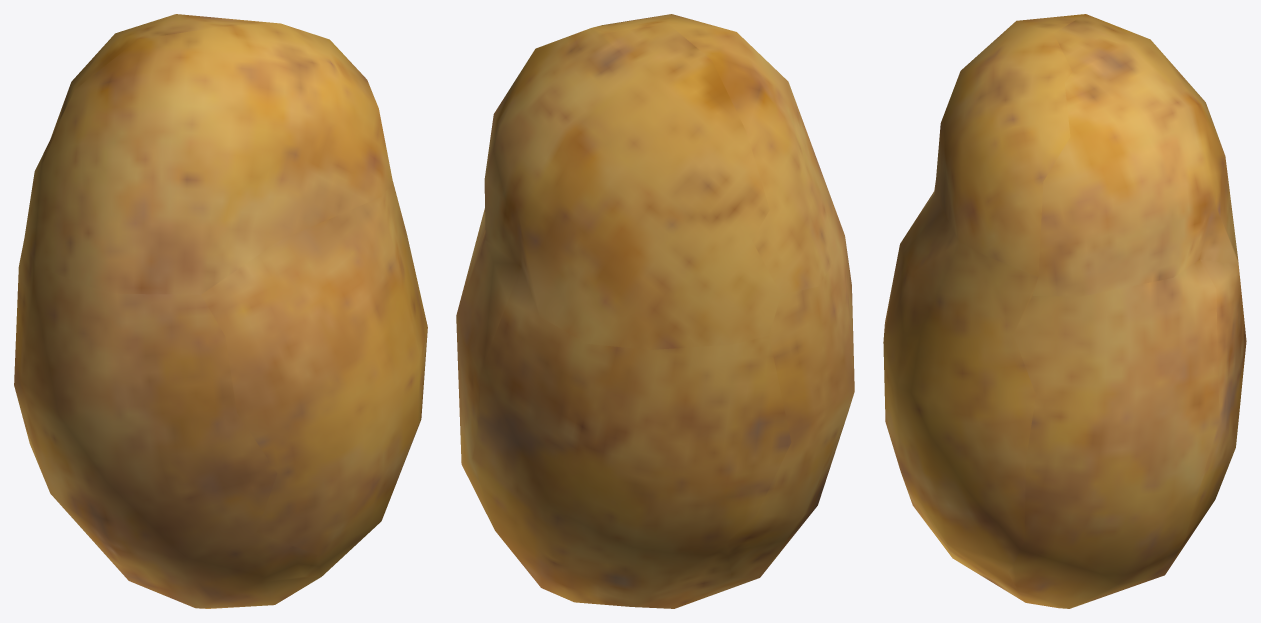
3 renders of one model, left to right at view 1: azimuth 30°, elevation 25°; view 2: azimuth 150°, elevation 25°; view 3: azimuth 270°, elevation 25°, orthographic. The views are drawn at different scales.
Visible parts, largest first — view 1: potato_7; view 2: potato_7; view 3: potato_7.
Part boxes in pixels (x1=…): potato_7: x1=14, y1=14, x2=427, y2=608; potato_7: x1=456, y1=14, x2=854, y2=608; potato_7: x1=883, y1=14, x2=1246, y2=608.
Bounding box in the file's own units: 0.049 × 0.0741 × 0.0446.
Materials: 1 (1 with a texture image).
